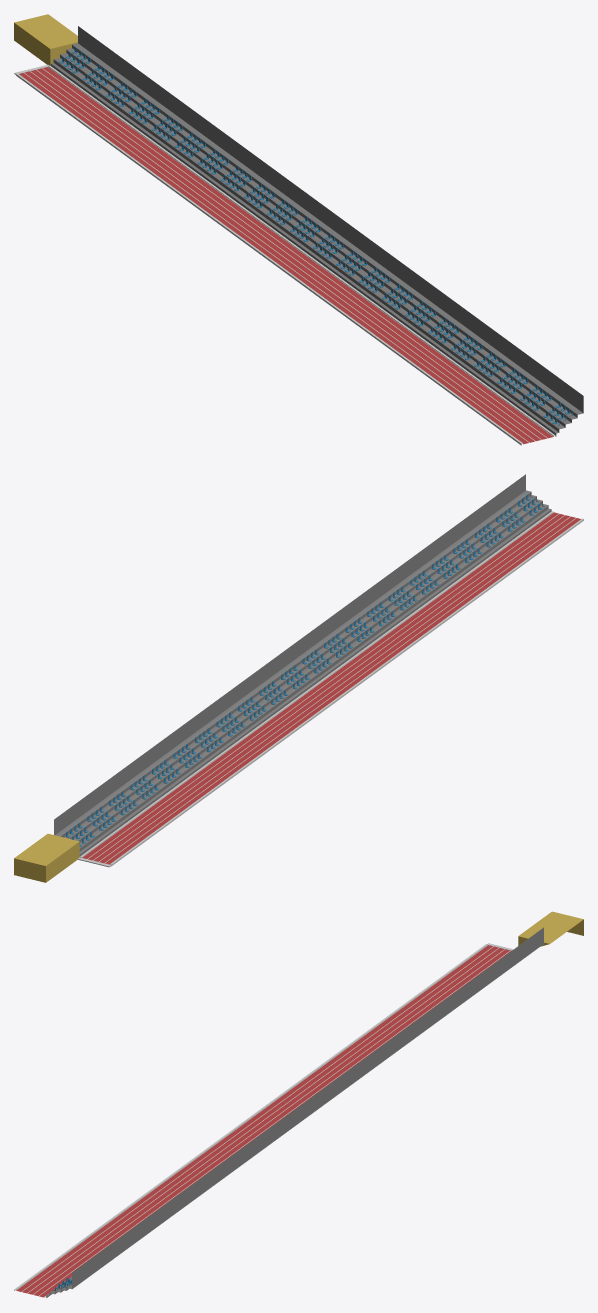
Rendered from speed_back_2.fbx.
3 renders of one model, top to bottom at view 1: azimuth 30°, elevation 25°; view 2: azimuth 150°, elevation 25°; view 3: azimuth 330°, elevation 25°, orthographic. The views are drawn at different scales.
Visible parts, largest first — view 1: Object002_2, speed_track_2, speed_back_2, Fans_Tribune_Seat_Blue__180_2, wall_2; view 2: Object002_2, speed_track_2, speed_back_2, Fans_Tribune_Seat_Blue__180_2, wall_2; view 3: speed_track_2, speed_back_2, wall_2, Object002_2.
Part boxes in pixels (x1,y1,x2,y2): Object002_2: (50, 43, 583, 436); speed_track_2: (16, 65, 555, 445); speed_back_2: (78, 26, 583, 413); Fans_Tribune_Seat_Blue__180_2: (59, 47, 572, 425); wall_2: (14, 14, 77, 65); Object002_2: (55, 490, 551, 856); speed_track_2: (80, 511, 583, 866); speed_back_2: (54, 474, 525, 835); Fans_Tribune_Seat_Blue__180_2: (66, 492, 544, 846); wall_2: (14, 833, 79, 882); speed_track_2: (14, 944, 511, 1297); speed_back_2: (72, 927, 543, 1288); wall_2: (518, 911, 583, 946); Object002_2: (46, 944, 543, 1297).
Size of the model in its own units: 3599 by 1746 by 49349.
Materials: 1 (1 with a texture image).
